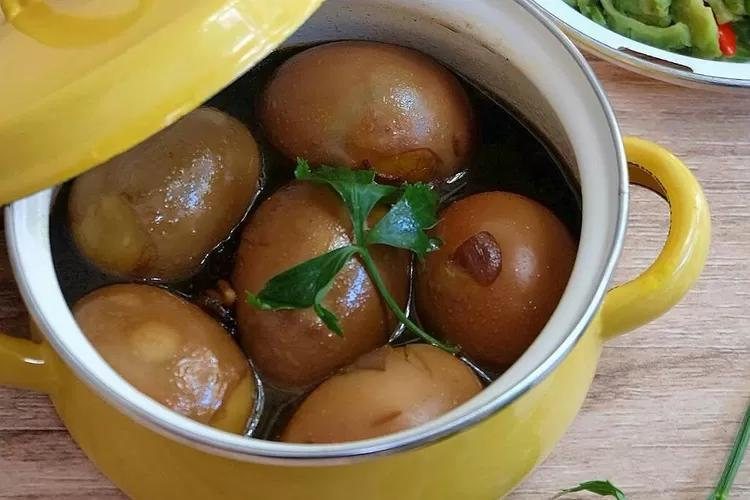telur: (296, 57, 434, 156), (440, 212, 546, 318), (90, 169, 211, 248), (106, 302, 222, 370), (248, 197, 328, 259), (344, 372, 436, 420)
